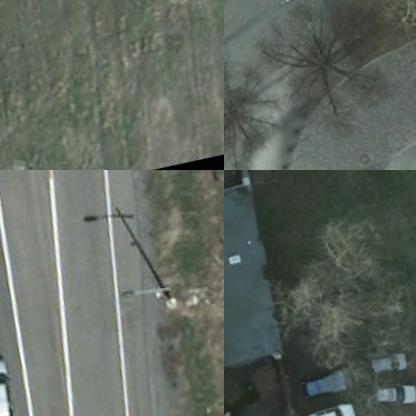car: (363, 375, 415, 414), (360, 344, 406, 376), (300, 394, 353, 415), (0, 351, 17, 415)
